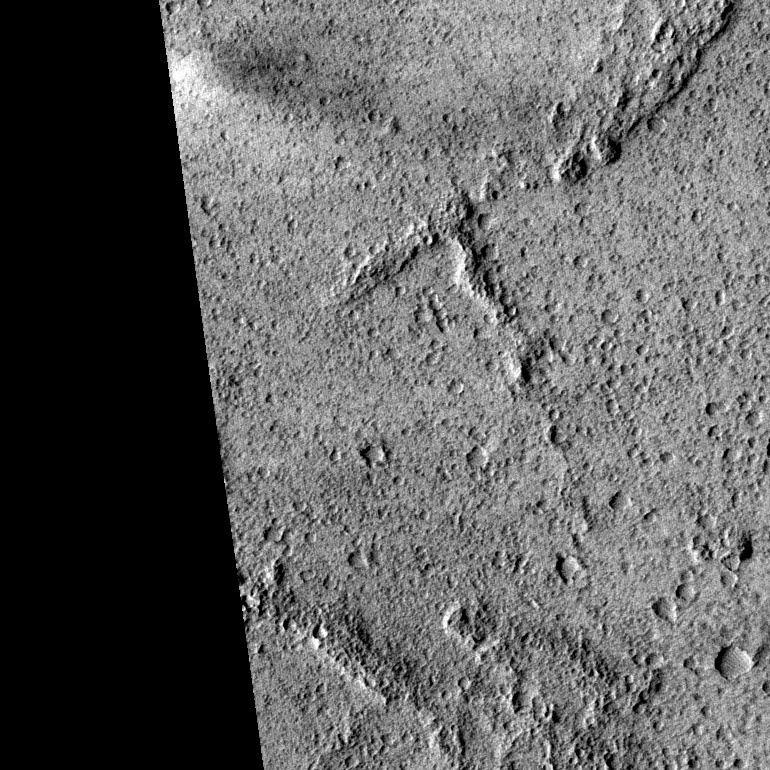dust_devil: (169, 38, 383, 129)
